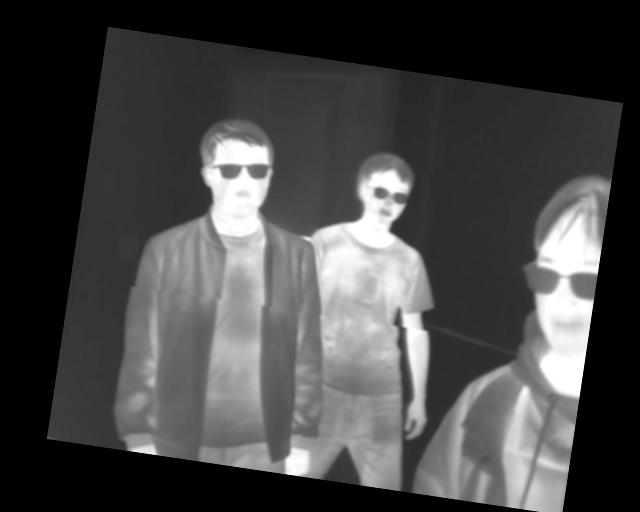face: (516, 166, 611, 353), (190, 112, 281, 223), (348, 147, 419, 233)
